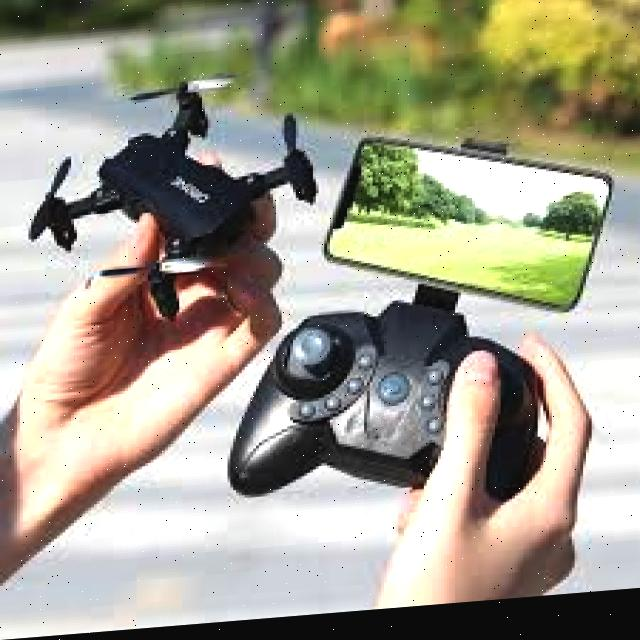drone: (31, 61, 342, 331)
